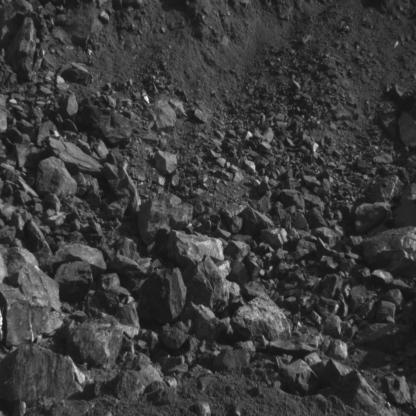stone: (0, 345, 84, 416), (0, 282, 51, 349), (138, 194, 193, 251), (362, 226, 416, 282), (232, 292, 292, 342), (183, 255, 230, 316), (136, 268, 187, 323), (65, 322, 123, 368), (83, 105, 139, 148), (44, 243, 107, 280), (48, 138, 104, 179), (166, 230, 225, 268), (18, 262, 62, 312), (180, 304, 234, 343), (6, 17, 37, 83), (337, 370, 382, 414), (113, 364, 164, 400), (34, 156, 77, 197), (54, 261, 93, 303), (0, 244, 39, 285), (281, 360, 322, 397), (354, 323, 404, 353), (354, 202, 393, 233), (369, 175, 404, 208), (241, 207, 274, 239), (268, 334, 319, 354), (383, 372, 412, 406), (148, 99, 176, 132), (323, 358, 352, 389), (312, 272, 343, 299), (213, 349, 250, 371), (228, 259, 250, 295), (397, 111, 416, 147), (116, 301, 140, 329), (24, 220, 45, 252), (257, 227, 289, 248), (379, 289, 405, 314), (159, 326, 186, 350), (12, 142, 35, 167), (224, 241, 251, 262), (316, 228, 344, 247), (155, 151, 177, 175), (295, 239, 317, 263), (71, 63, 93, 87), (280, 189, 305, 210), (141, 330, 162, 355), (227, 280, 246, 306), (350, 284, 367, 313), (105, 255, 140, 269), (376, 300, 396, 323), (322, 315, 343, 336), (222, 203, 244, 223), (0, 197, 18, 221), (63, 93, 78, 120), (327, 339, 347, 359), (307, 207, 327, 226), (100, 273, 121, 291), (304, 352, 324, 370), (244, 282, 268, 297), (371, 270, 393, 286), (37, 123, 51, 147), (42, 193, 60, 211), (0, 226, 16, 246), (44, 213, 65, 228), (0, 94, 8, 133), (257, 195, 272, 214), (94, 139, 110, 156), (86, 190, 102, 207), (104, 163, 119, 181), (14, 191, 31, 206), (294, 212, 308, 230), (392, 279, 413, 291), (217, 259, 231, 277), (11, 213, 25, 231), (50, 224, 70, 236), (228, 215, 242, 232), (89, 219, 103, 234), (5, 170, 20, 184)
